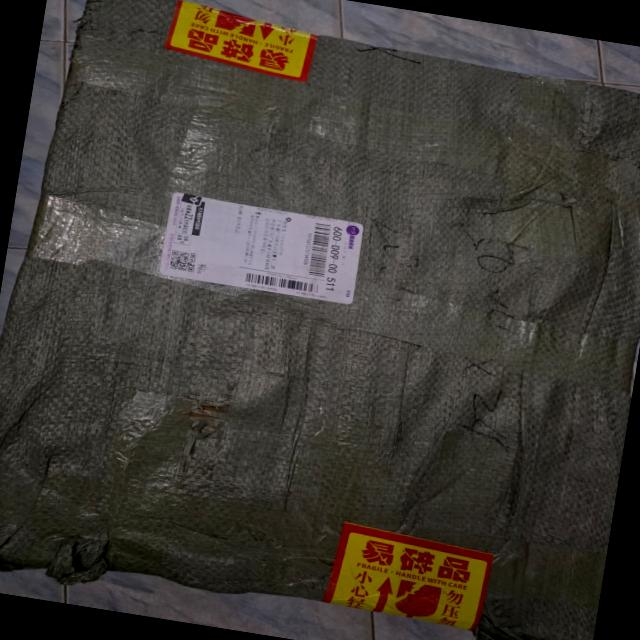export_mark_label: (148, 187, 385, 321)
fragile_label: (389, 564, 462, 632), (208, 8, 270, 49)
this_side_up_label: (347, 547, 404, 625), (253, 18, 290, 48)
